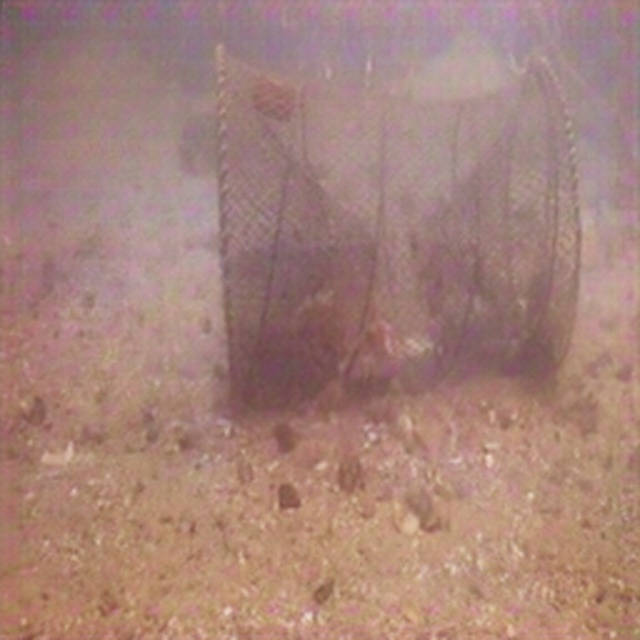mine: (214, 42, 581, 403)
